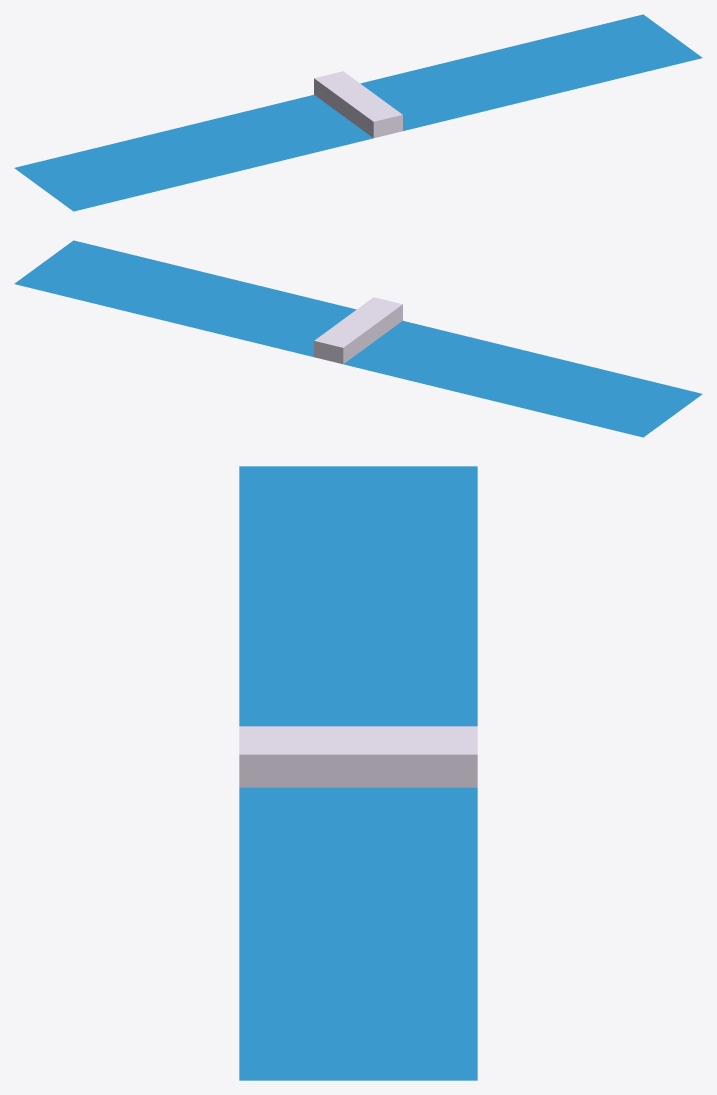
File: RoadHolesCenter.fbx
3 views of the same model, one above another, from view 1: azimuth 30°, elevation 25°; view 2: azimuth 150°, elevation 25°; view 3: azimuth 270°, elevation 25° (orthographic). The views are drawn at different scales.
Parts seen in each view (by area): view 1: RoadHolesCenterEmpty; view 2: RoadHolesCenterEmpty; view 3: RoadHolesCenterEmpty.
Part boxes in pixels (x1=…): RoadHolesCenterEmpty: x1=14, y1=14, x2=702, y2=211; RoadHolesCenterEmpty: x1=14, y1=240, x2=702, y2=437; RoadHolesCenterEmpty: x1=239, y1=466, x2=477, y2=1080.
Bounding box in the file's own units: 3902 × 97.53 × 640.
